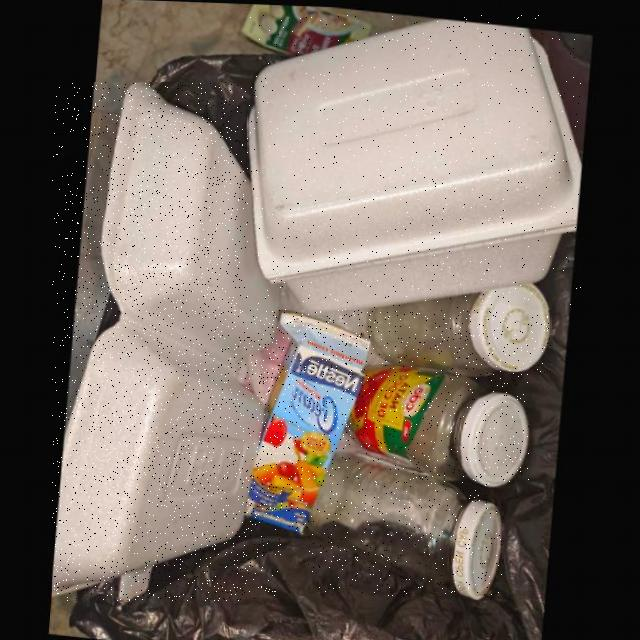glass: (309, 446, 503, 596), (346, 361, 529, 483), (368, 280, 551, 373)
paper: (247, 310, 371, 533)
styrofoam: (53, 82, 281, 601), (248, 15, 582, 310)
